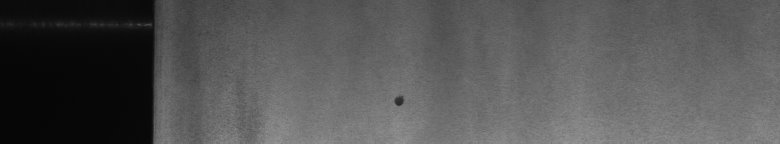fi: (388, 88, 409, 115)
